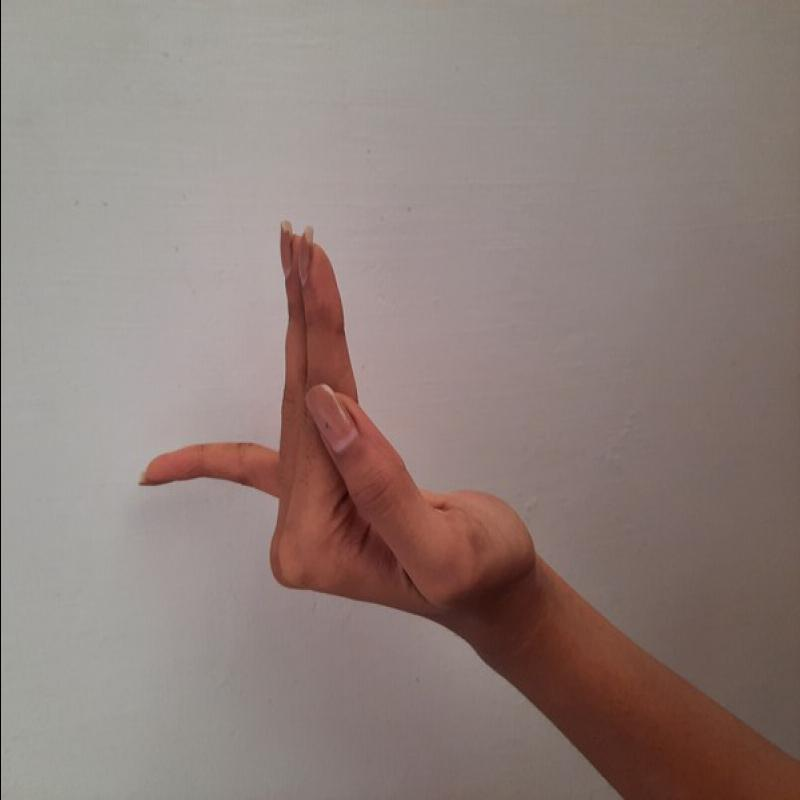Kartharee Mukham: (121, 213, 543, 631)
